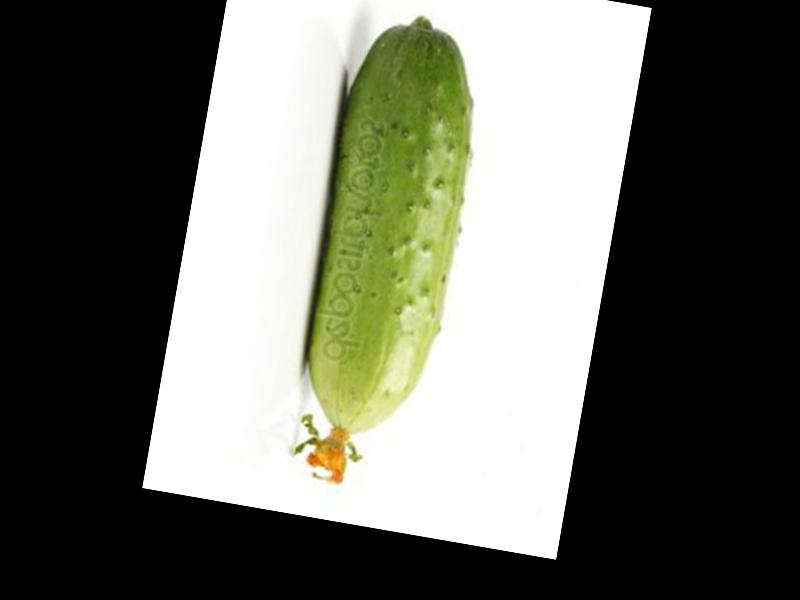Cucumber: (278, 4, 493, 494)
